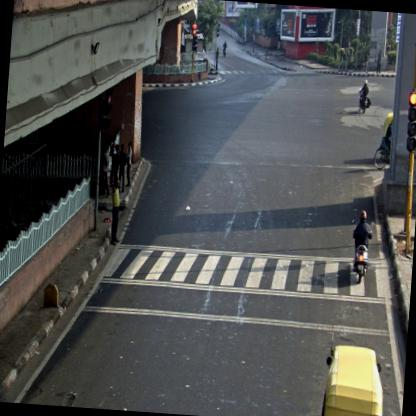motorcycle: (348, 210, 376, 286), (356, 76, 374, 117), (222, 39, 228, 59)
